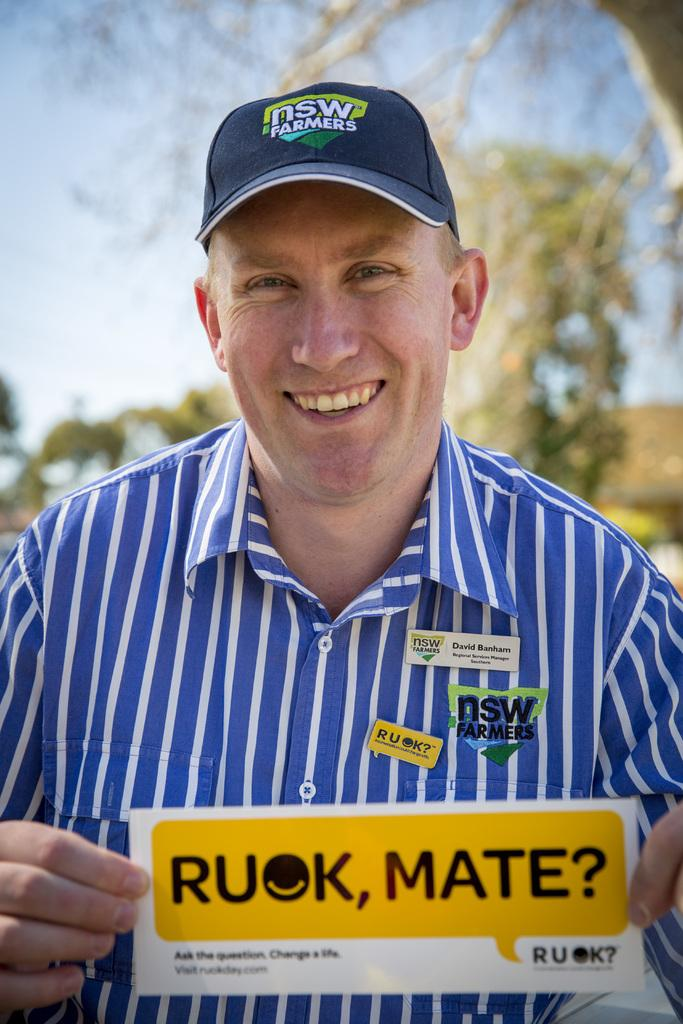Hat: (194, 83, 458, 249)
